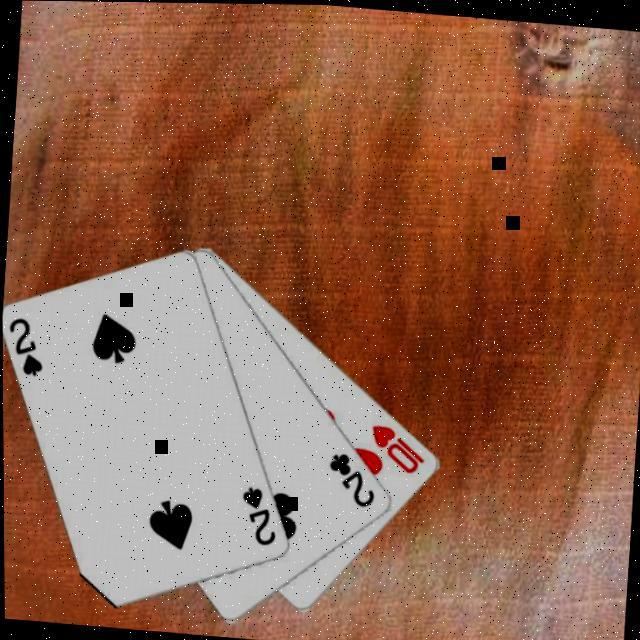10H: (364, 418, 427, 475)
2C: (321, 446, 379, 510)
2S: (234, 482, 280, 548), (2, 313, 47, 379)
